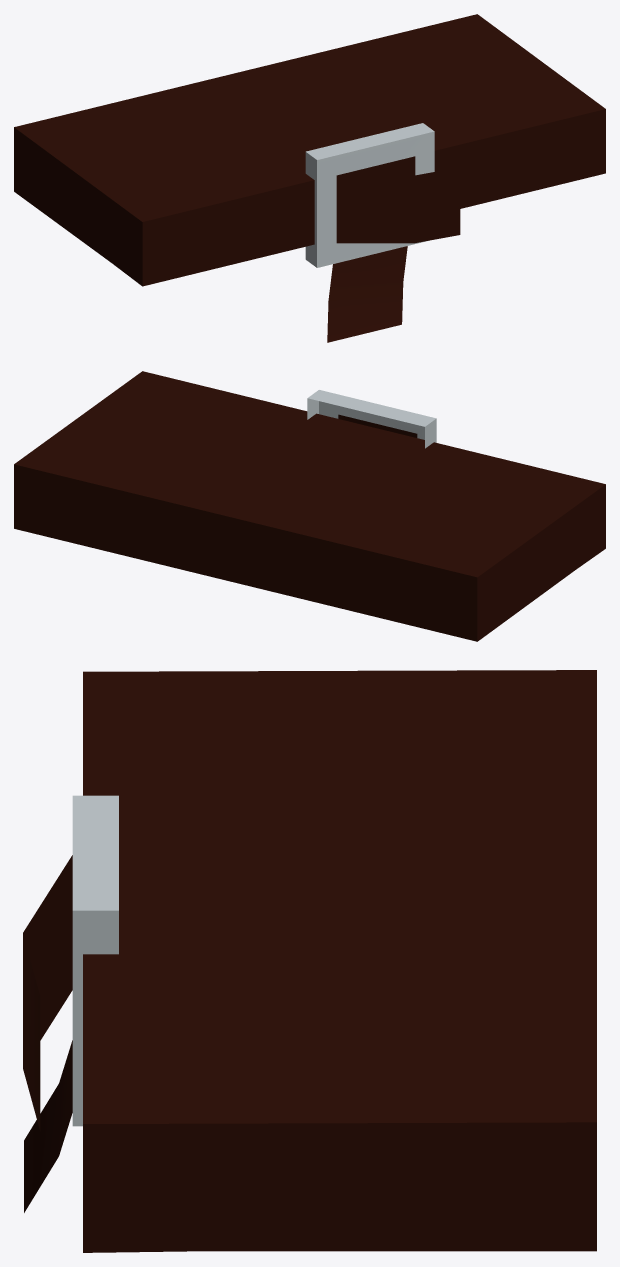
File: Belt 01.FBX
3 renders of one model, top to bottom at view 1: azimuth 30°, elevation 25°; view 2: azimuth 150°, elevation 25°; view 3: azimuth 270°, elevation 25°, orthographic. The views are drawn at different scales.
Parts seen in each view (by area): view 1: Belt 01; view 2: Belt 01; view 3: Belt 01.
Boxes of the visible parts, left/top/right/bottom form: Belt 01: left=14, top=14, right=605, bottom=342; Belt 01: left=14, top=371, right=605, bottom=641; Belt 01: left=23, top=670, right=596, bottom=1252.
Bounding box in the file's own units: 50.19 × 17.94 × 26.92.
1 material, 1 textured.
